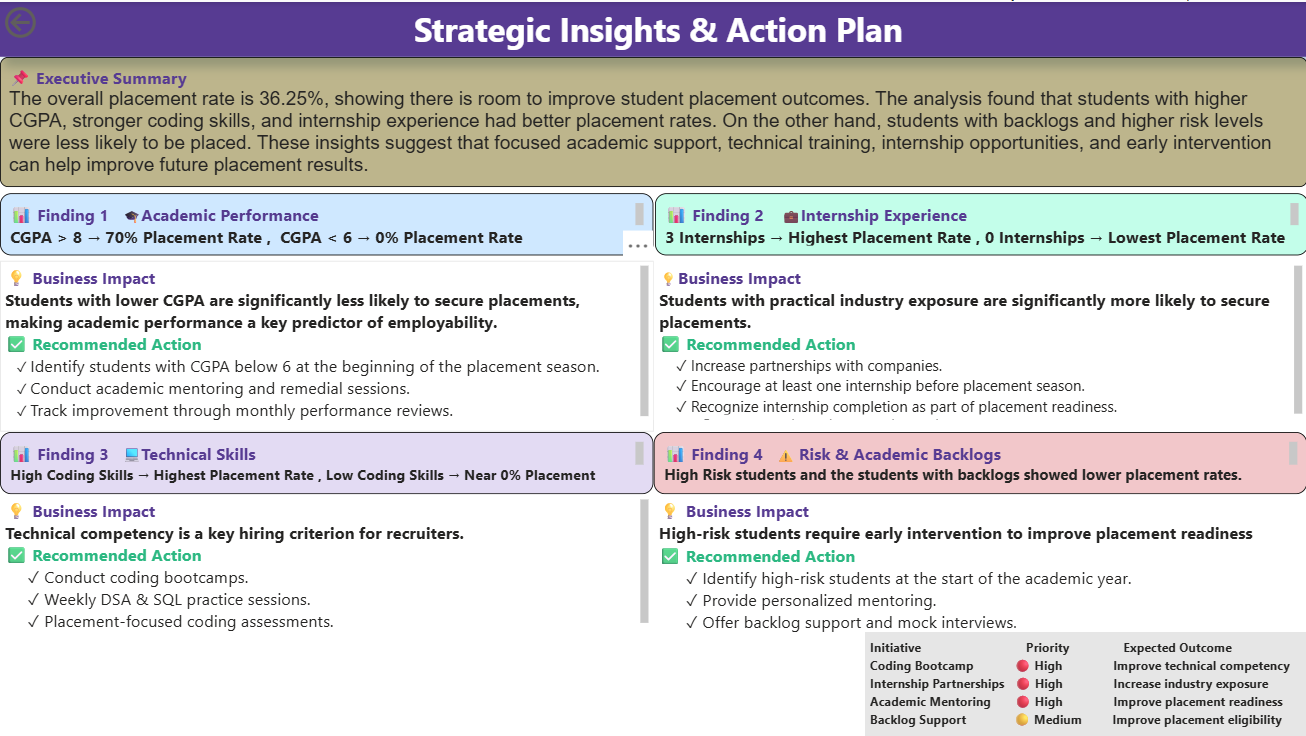

Layout of this report page (visuals, bound fields, positions):
{"tool":"powerbi","page":{"name":"Page 4","canvas":[1280,720],"ordinal":3},"visuals":[{"type":"textbox","box":[0,0,1279.1,53.8],"z":0},{"type":"actionButton","box":[0,0,100,40],"z":1000},{"type":"textbox","box":[0,53.8,1279.1,127.2],"z":2000},{"type":"textbox","box":[0,187.3,639.5,61.1],"z":3000},{"type":"textbox","box":[0,253.1,639.5,167.5],"z":4000},{"type":"textbox","box":[640.8,187.3,639.5,61.1],"z":5000},{"type":"textbox","box":[640.8,265.4,639.5,155.3],"z":6000},{"type":"textbox","box":[0,420.7,639.5,61.1],"z":7000},{"type":"textbox","box":[0,481.8,639.5,143.1],"z":8000},{"type":"textbox","box":[639.5,420.7,639.5,61.1],"z":9000},{"type":"textbox","box":[639.5,253.1,639.5,155.3],"z":10000},{"type":"textbox","box":[639.5,481.8,639.5,143.1],"z":11000},{"type":"textbox","box":[846.2,616.3,434.1,103.9],"z":12000}]}

Visuals, with their boxes in screenshot pixels (x1, y1, x2, y2), scaled from the page's 1280x720 canvas onto the 1306x736 screenshot:
textbox: detection(0, 0, 1305, 55)
actionButton: detection(0, 0, 102, 41)
textbox: detection(0, 55, 1305, 185)
textbox: detection(0, 191, 652, 254)
textbox: detection(0, 259, 652, 430)
textbox: detection(654, 191, 1305, 254)
textbox: detection(654, 271, 1305, 430)
textbox: detection(0, 430, 652, 493)
textbox: detection(0, 493, 652, 639)
textbox: detection(652, 430, 1305, 493)
textbox: detection(652, 259, 1305, 417)
textbox: detection(652, 493, 1305, 639)
textbox: detection(863, 630, 1305, 735)
